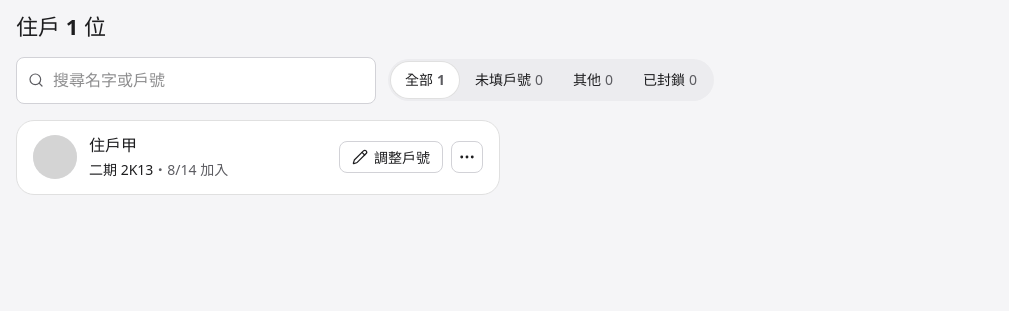
Test: ResidentMemberManagementApp › moves a resident to 其他 with no household at all
Click the button with aria-label "調整住戶資料 住戶甲": {"x": 391, "y": 157} [339,141,443,173]
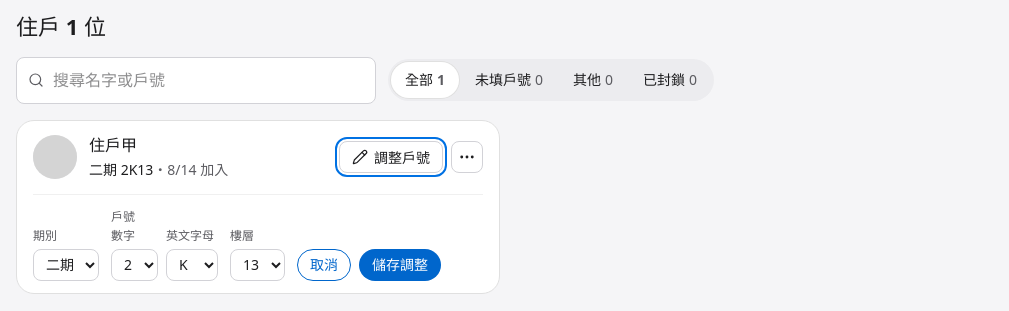
Select "其他" in the dropdown named "住戶甲 期別": {"x": 66, "y": 265} [33,249,99,281]
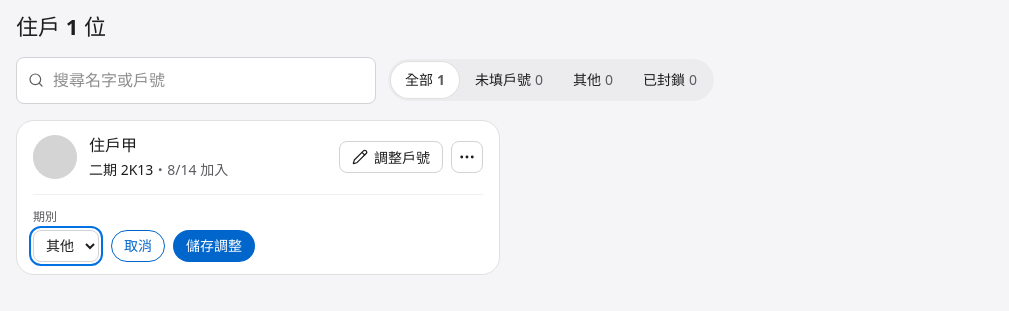
Click the button with aria-label "儲存住戶資料 住戶甲": {"x": 214, "y": 246} [173,230,255,262]
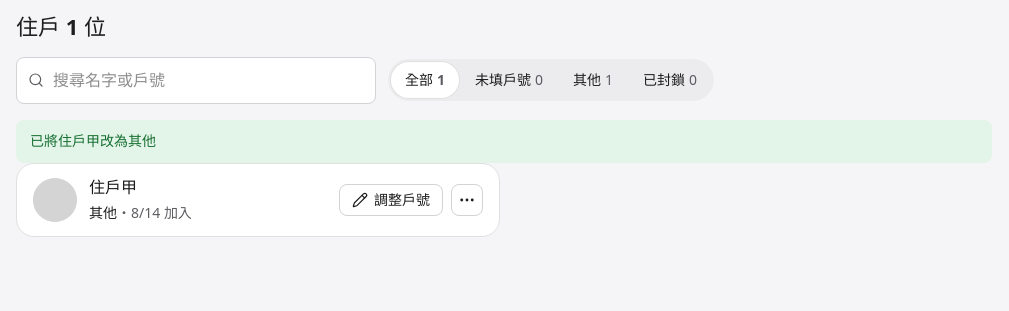
Expected: the text "已將住戶甲改為其他" is shown, [30,130,156,153]
Expected: the text "其他" is shown, [89,203,117,222]
